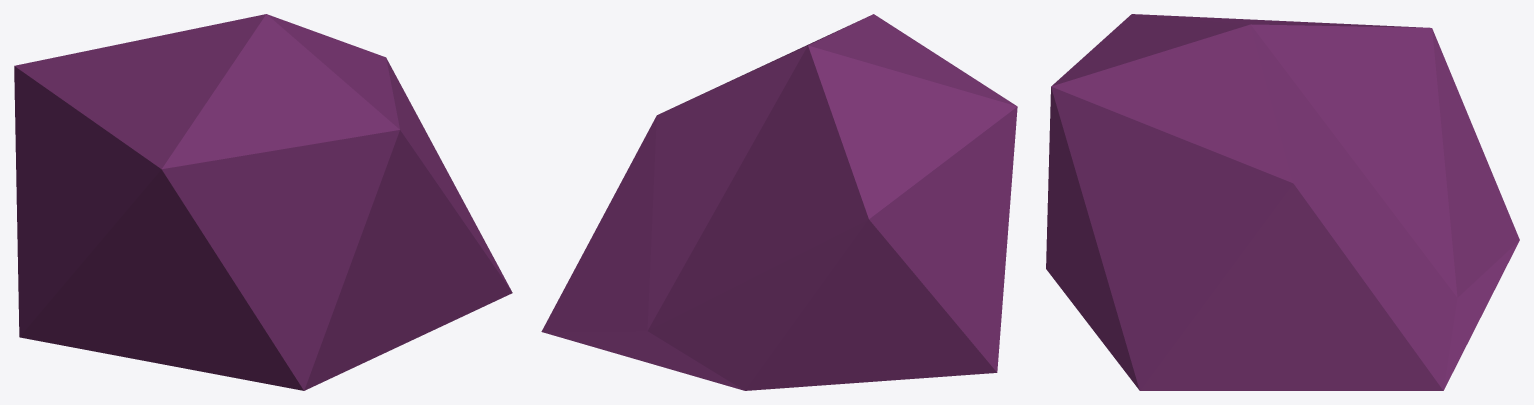
Rendered from M_P_Stone3.FBX.
The picture shows the model from 3 angles, left to right: view 1: azimuth 30°, elevation 25°; view 2: azimuth 150°, elevation 25°; view 3: azimuth 270°, elevation 25°; orthographic projection. The views are drawn at different scales.
Visible parts, largest first — view 1: GeoSphere065; view 2: GeoSphere065; view 3: GeoSphere065.
Part boxes in pixels (x1,y1,x2,y2): GeoSphere065: [14, 14, 512, 390]; GeoSphere065: [541, 14, 1017, 390]; GeoSphere065: [1046, 14, 1519, 390].
Bounding box in the file's own units: 107 × 72.63 × 109.
